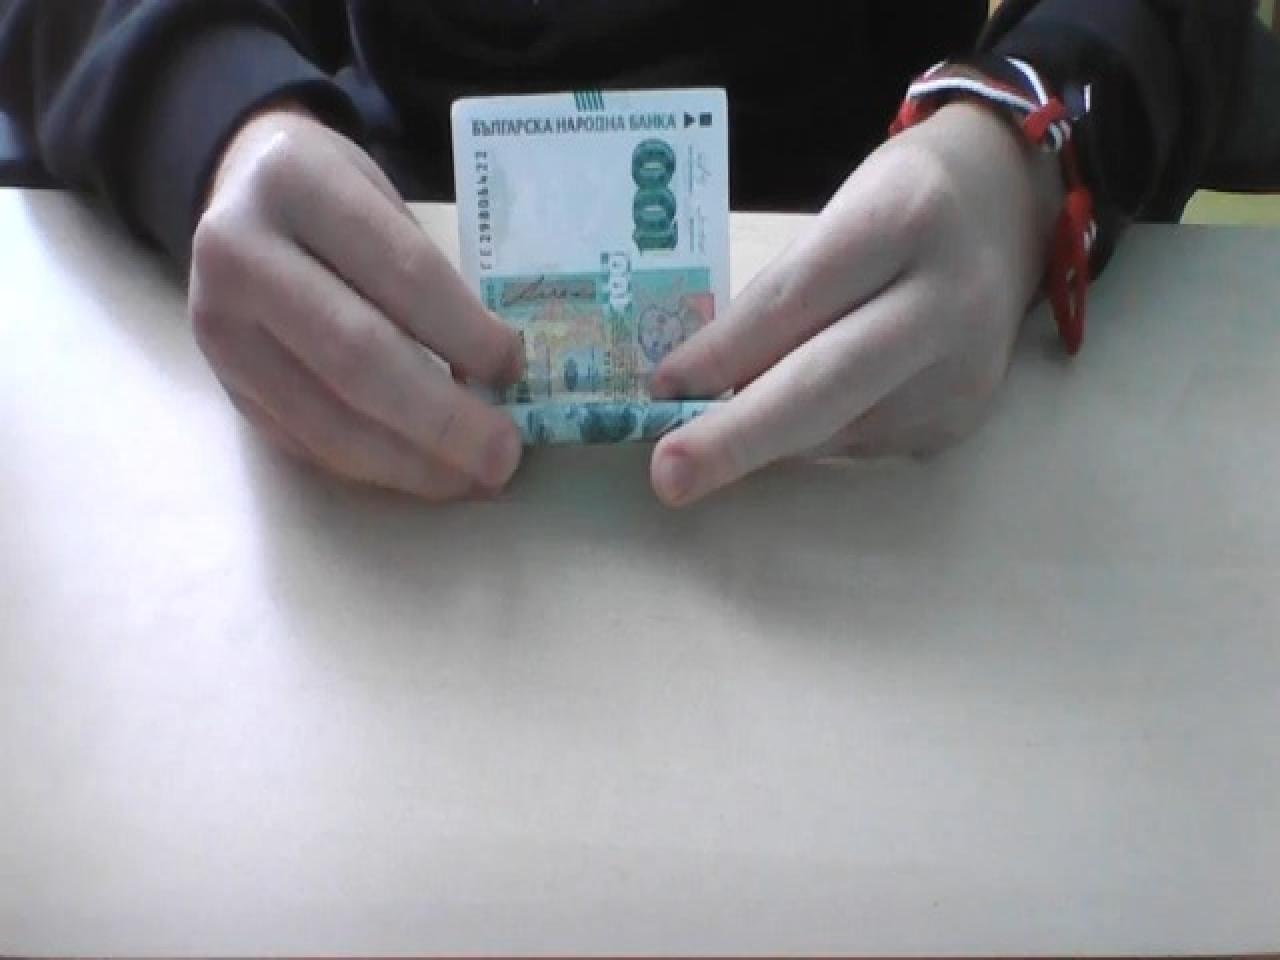100leva: (447, 83, 734, 449)
